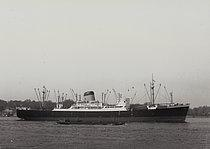Ship: (13, 69, 195, 128)
